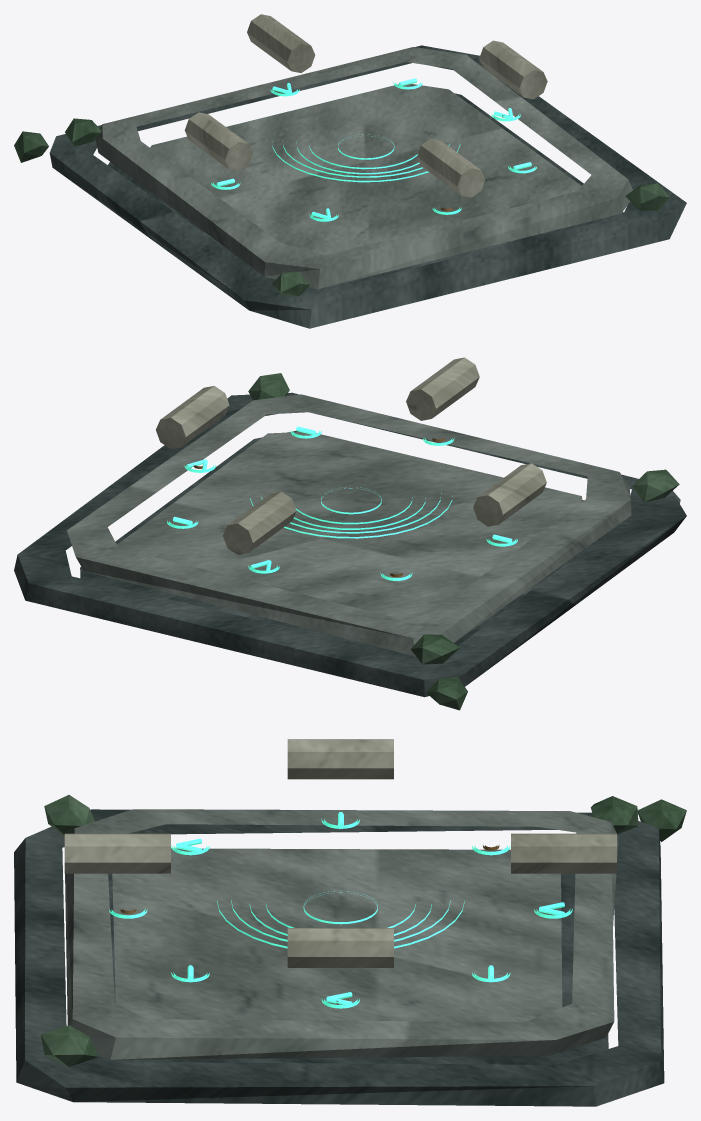
The model's file is 0563_rune_dais_13.glb.
The picture shows the model from 3 angles, top to bottom: view 1: azimuth 30°, elevation 25°; view 2: azimuth 150°, elevation 25°; view 3: azimuth 270°, elevation 25°; orthographic projection. The views are drawn at different scales.
Visible parts, largest first — view 1: stone, stone_dark, stone_light, moss, glow; view 2: stone, stone_dark, stone_light, moss, glow; view 3: stone, stone_dark, stone_light, moss, glow.
Part boxes in pixels (<box>): stone: <box>96,47,632,289</box>; stone_dark: <box>49,45,686,328</box>; stone_light: <box>184,14,547,197</box>; moss: <box>14,118,669,296</box>; glow: <box>211,78,536,221</box>; stone: <box>67,394,631,656</box>; stone_dark: <box>14,392,686,697</box>; stone_light: <box>156,357,546,554</box>; moss: <box>248,373,679,710</box>; glow: <box>167,426,517,580</box>; stone: <box>65,809,618,1059</box>; stone_dark: <box>14,809,664,1106</box>; stone_light: <box>64,739,616,967</box>; moss: <box>40,795,686,1066</box>; glow: <box>109,812,572,1008</box>.
Bounding box in the file's own units: 3.15 × 0.7279 × 3.17.
Materials: 6 (6 with a texture image).
